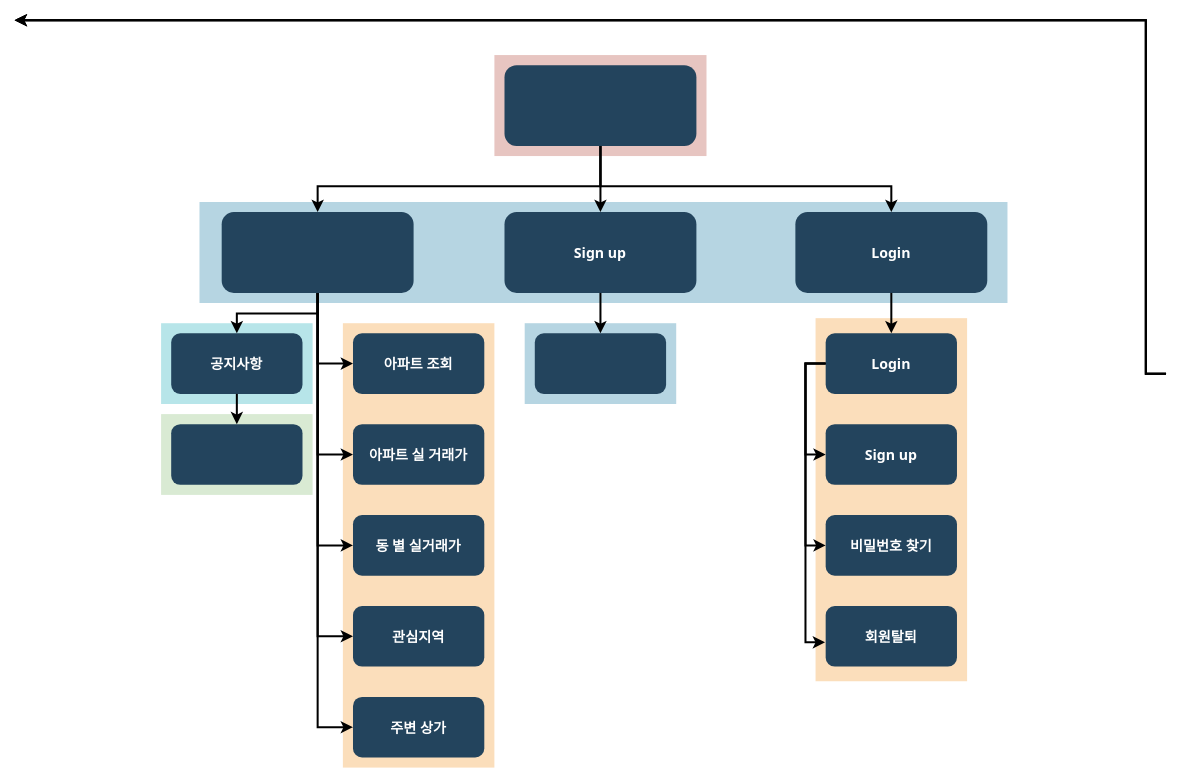
Some shapes in this 1183 by 784 pixel diagram are drawn without their labels. The shapes that lost their labels are listed below. From the top down, each one's centre as x and y in pixels, then its label:
(x=600, y=105): OhNoMyHouse
(x=317, y=252): HOME
(x=600, y=363): 회원가입
(x=236, y=454): 웹사이트 소개
